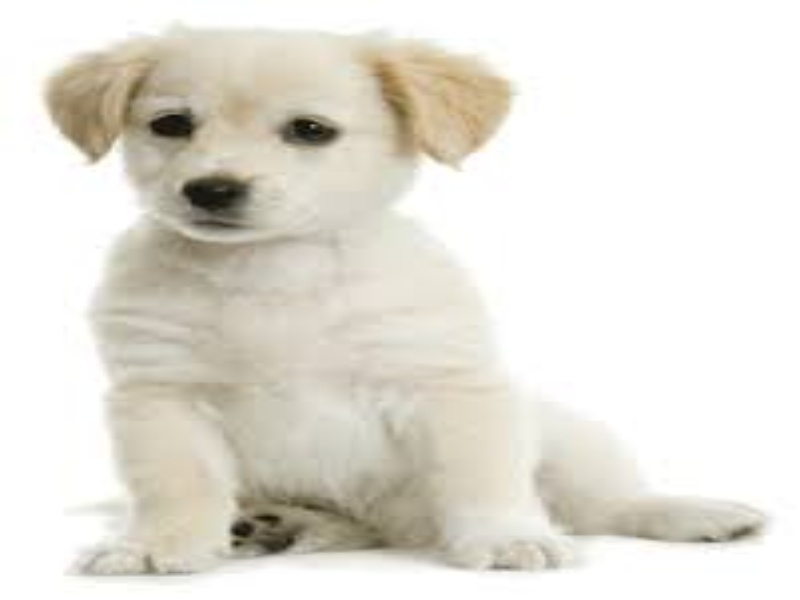dog: (41, 16, 774, 587)
